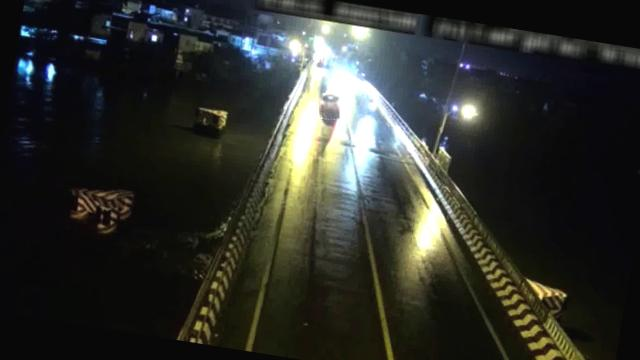Car: (318, 90, 345, 122)
